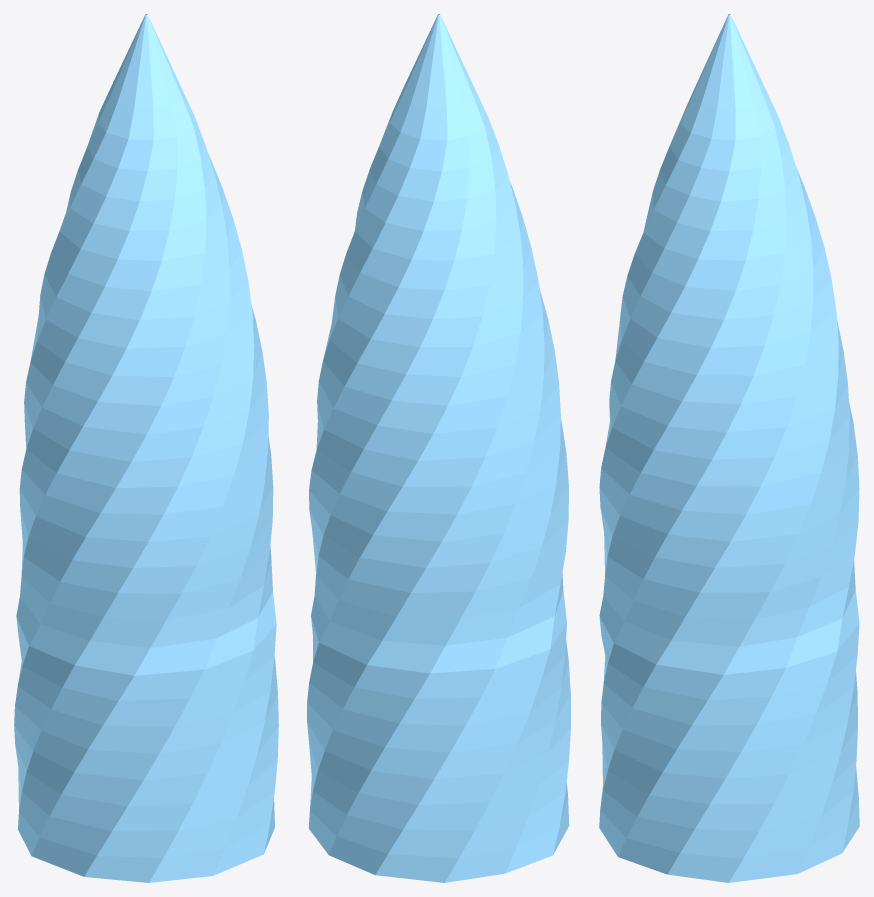
The model's file is Twisted_Building.fbx.
The picture shows the model from 3 angles, left to right: view 1: azimuth 30°, elevation 25°; view 2: azimuth 150°, elevation 25°; view 3: azimuth 270°, elevation 25°; orthographic projection.
Visible parts, largest first — view 1: Cube.011; view 2: Cube.011; view 3: Cube.011.
Part boxes in pixels (x1,y1,x2,y2): Cube.011: (14,14,278,882); Cube.011: (307,14,570,882); Cube.011: (599,14,859,882).
Size of the model in its own units: 708 by 2402 by 698.
